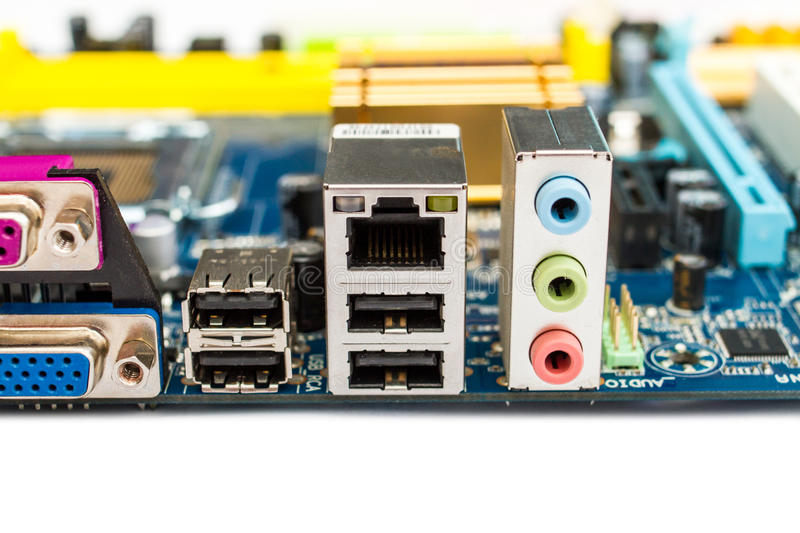Audio: (526, 328, 591, 387), (525, 258, 591, 311), (535, 180, 592, 236)
Ethernet: (325, 188, 461, 284)
USB: (338, 345, 457, 392), (339, 293, 456, 340)
